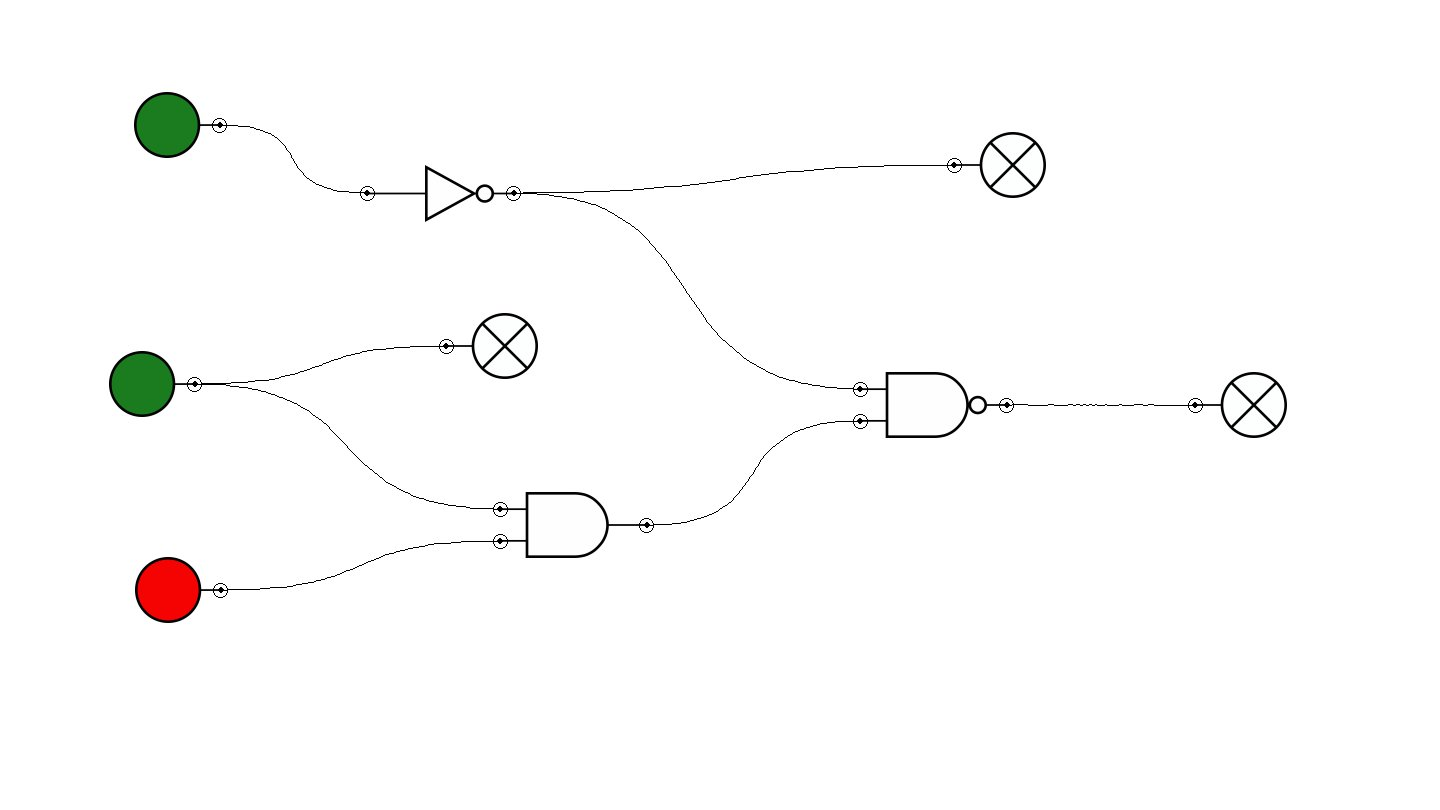and: (493, 492, 654, 558)
bulb: (1188, 372, 1287, 438), (439, 313, 538, 379), (947, 132, 1046, 198)
nand: (853, 372, 1014, 438)
not: (360, 165, 521, 222)
switch_False: (135, 557, 228, 623)
switch_True: (109, 351, 202, 417), (134, 92, 227, 158)
